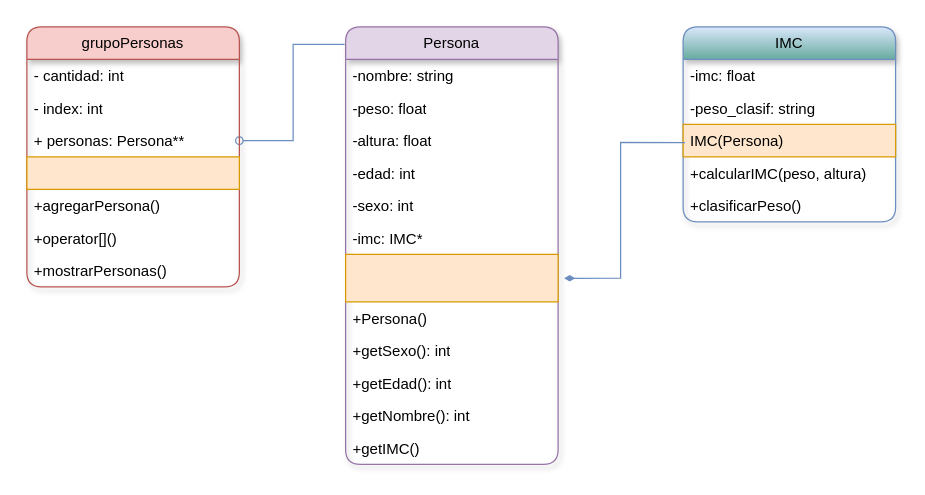
Some shapes in this 925 by 495 pixel diagram are drawn without their labels. The shapes that lost their labels are listed below. From the top down, each one's centre as x and y in pixels, then its label:
At pixel 132 172: "grupoPersonas(n)".
At pixel 451 277: "+Persona(nombre_completo, peso, altura, edad, sexo)".
